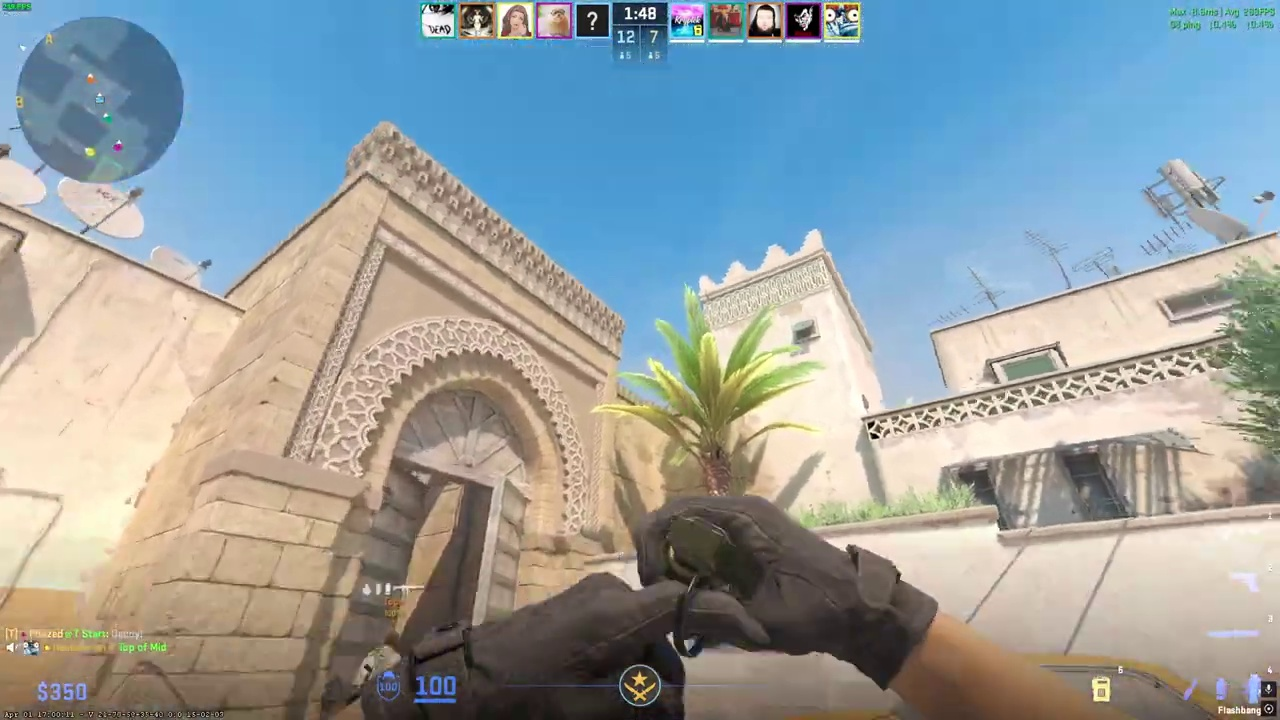Terrorist: (352, 630, 406, 705)
